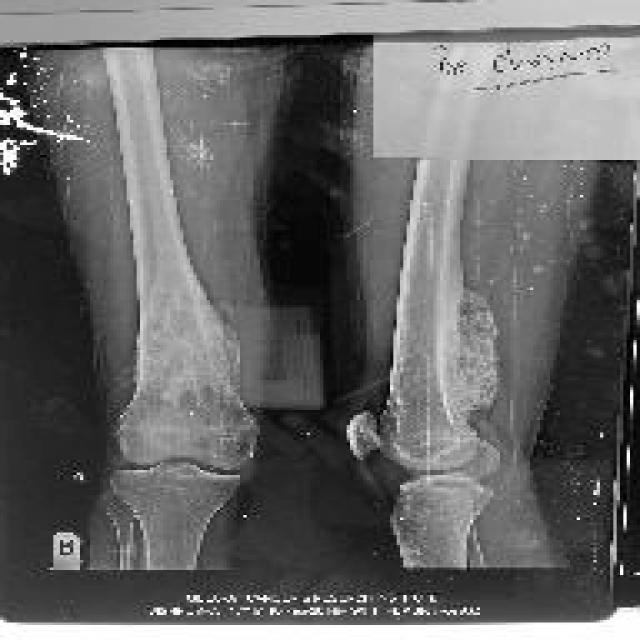bone-cancer: (129, 293, 242, 407), (433, 285, 507, 418)
